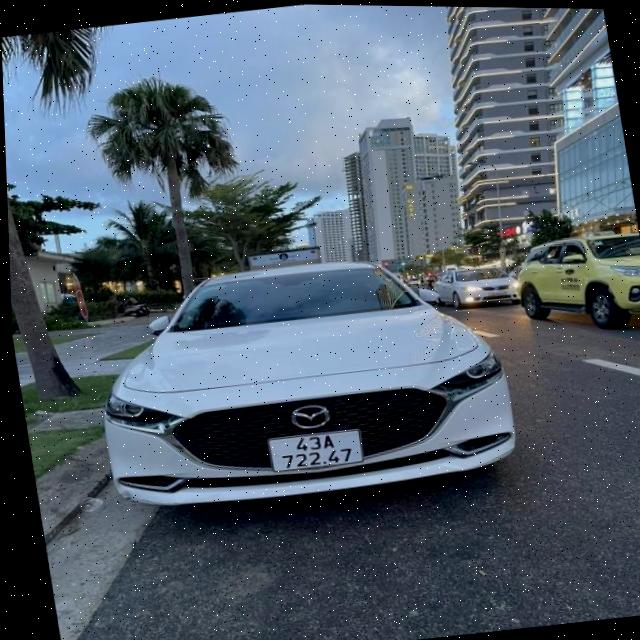car: (80, 233, 526, 538), (520, 84, 640, 346), (505, 223, 640, 337), (417, 252, 526, 318)
plate: (259, 420, 370, 481)
